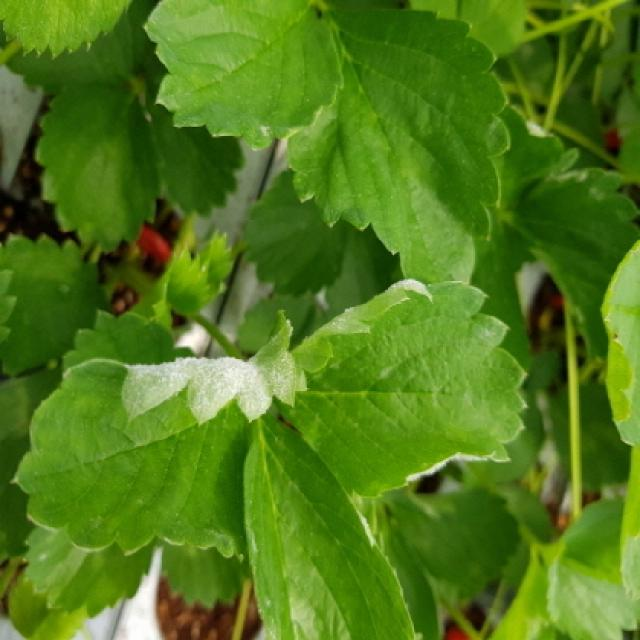Powdery Mildew Leaf: (12, 306, 296, 563), (276, 278, 532, 498), (242, 416, 415, 638), (21, 524, 156, 618)
